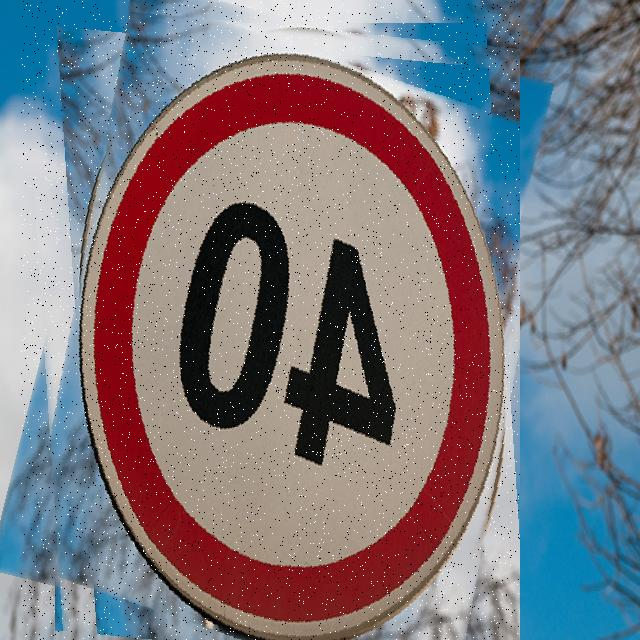speed limit 40: (21, 1, 520, 640)
